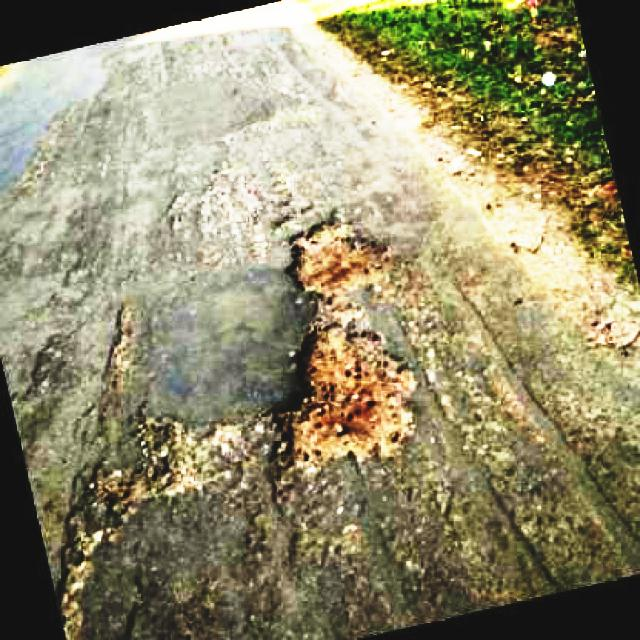pothole: (58, 411, 211, 638), (268, 323, 423, 463), (291, 211, 395, 298)
